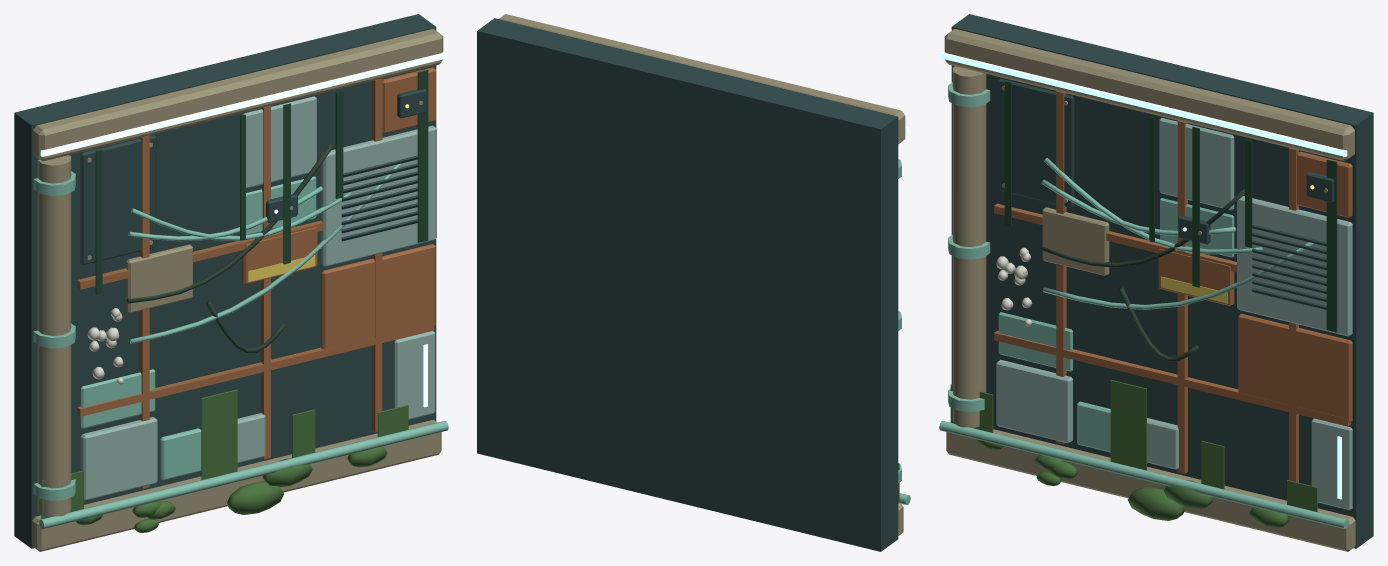
File: wall_dr_breach.glb
The picture shows the model from 3 angles, left to right: view 1: azimuth 30°, elevation 25°; view 2: azimuth 150°, elevation 25°; view 3: azimuth 330°, elevation 25°; orthographic projection.
Parts seen in each view (by area): view 1: wall_dr_breach; view 2: wall_dr_breach; view 3: wall_dr_breach.
Boxes of the visible parts, x1,y1,x2,y2 form: wall_dr_breach: (14,14,448,551); wall_dr_breach: (477,14,910,551); wall_dr_breach: (939,14,1373,551).
Bounding box in the file's own units: 4 × 4.09 × 0.5692.
